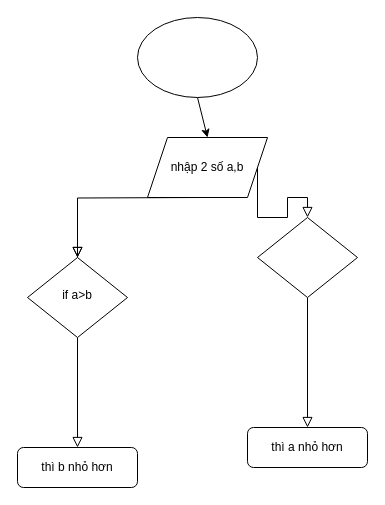
Some shapes in this 385 by 505 pixel diagram are drawn without their labels. The centre of each missing label's shape, as x and y in pixels:
if a<b: point (307, 257)
start: point (197, 57)
